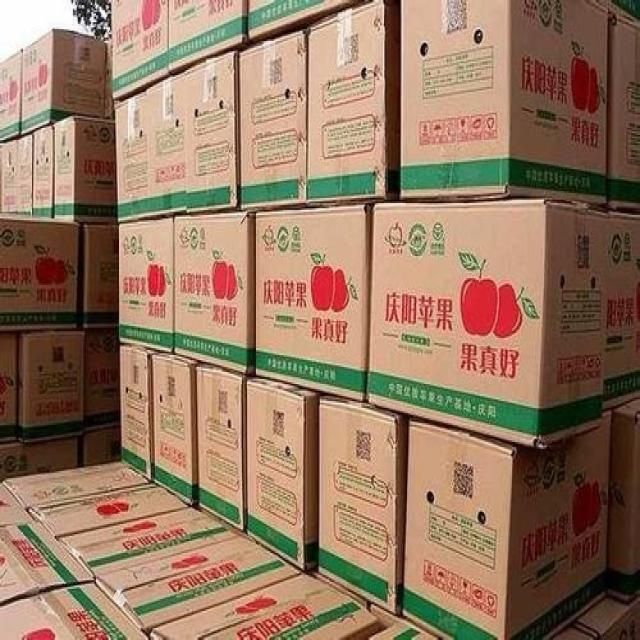box: (366, 198, 608, 454), (403, 411, 613, 640), (399, 0, 609, 213), (253, 203, 372, 406), (316, 394, 411, 616), (92, 534, 302, 633), (306, 0, 399, 208), (148, 572, 383, 640), (247, 377, 320, 572), (174, 210, 256, 379), (58, 505, 238, 577), (238, 26, 306, 212), (0, 217, 81, 333), (28, 481, 191, 538), (184, 49, 239, 213), (0, 580, 148, 640), (22, 29, 105, 135), (196, 362, 247, 532), (0, 521, 95, 608), (150, 352, 201, 510), (17, 328, 86, 442), (119, 215, 175, 355), (604, 213, 640, 415), (3, 461, 152, 507), (54, 118, 116, 224), (168, 0, 250, 80), (609, 396, 640, 604), (608, 14, 640, 215), (248, 0, 375, 48), (146, 70, 186, 220), (110, 0, 168, 99), (122, 343, 163, 481), (114, 90, 148, 224), (550, 594, 640, 640), (82, 220, 119, 328), (84, 326, 120, 432), (0, 432, 79, 480), (312, 573, 369, 609), (32, 125, 54, 218), (371, 614, 447, 640), (0, 333, 17, 447), (0, 480, 40, 527), (0, 49, 20, 143), (82, 425, 122, 468), (15, 131, 33, 218), (0, 140, 15, 217), (370, 602, 399, 631), (104, 43, 114, 119)
